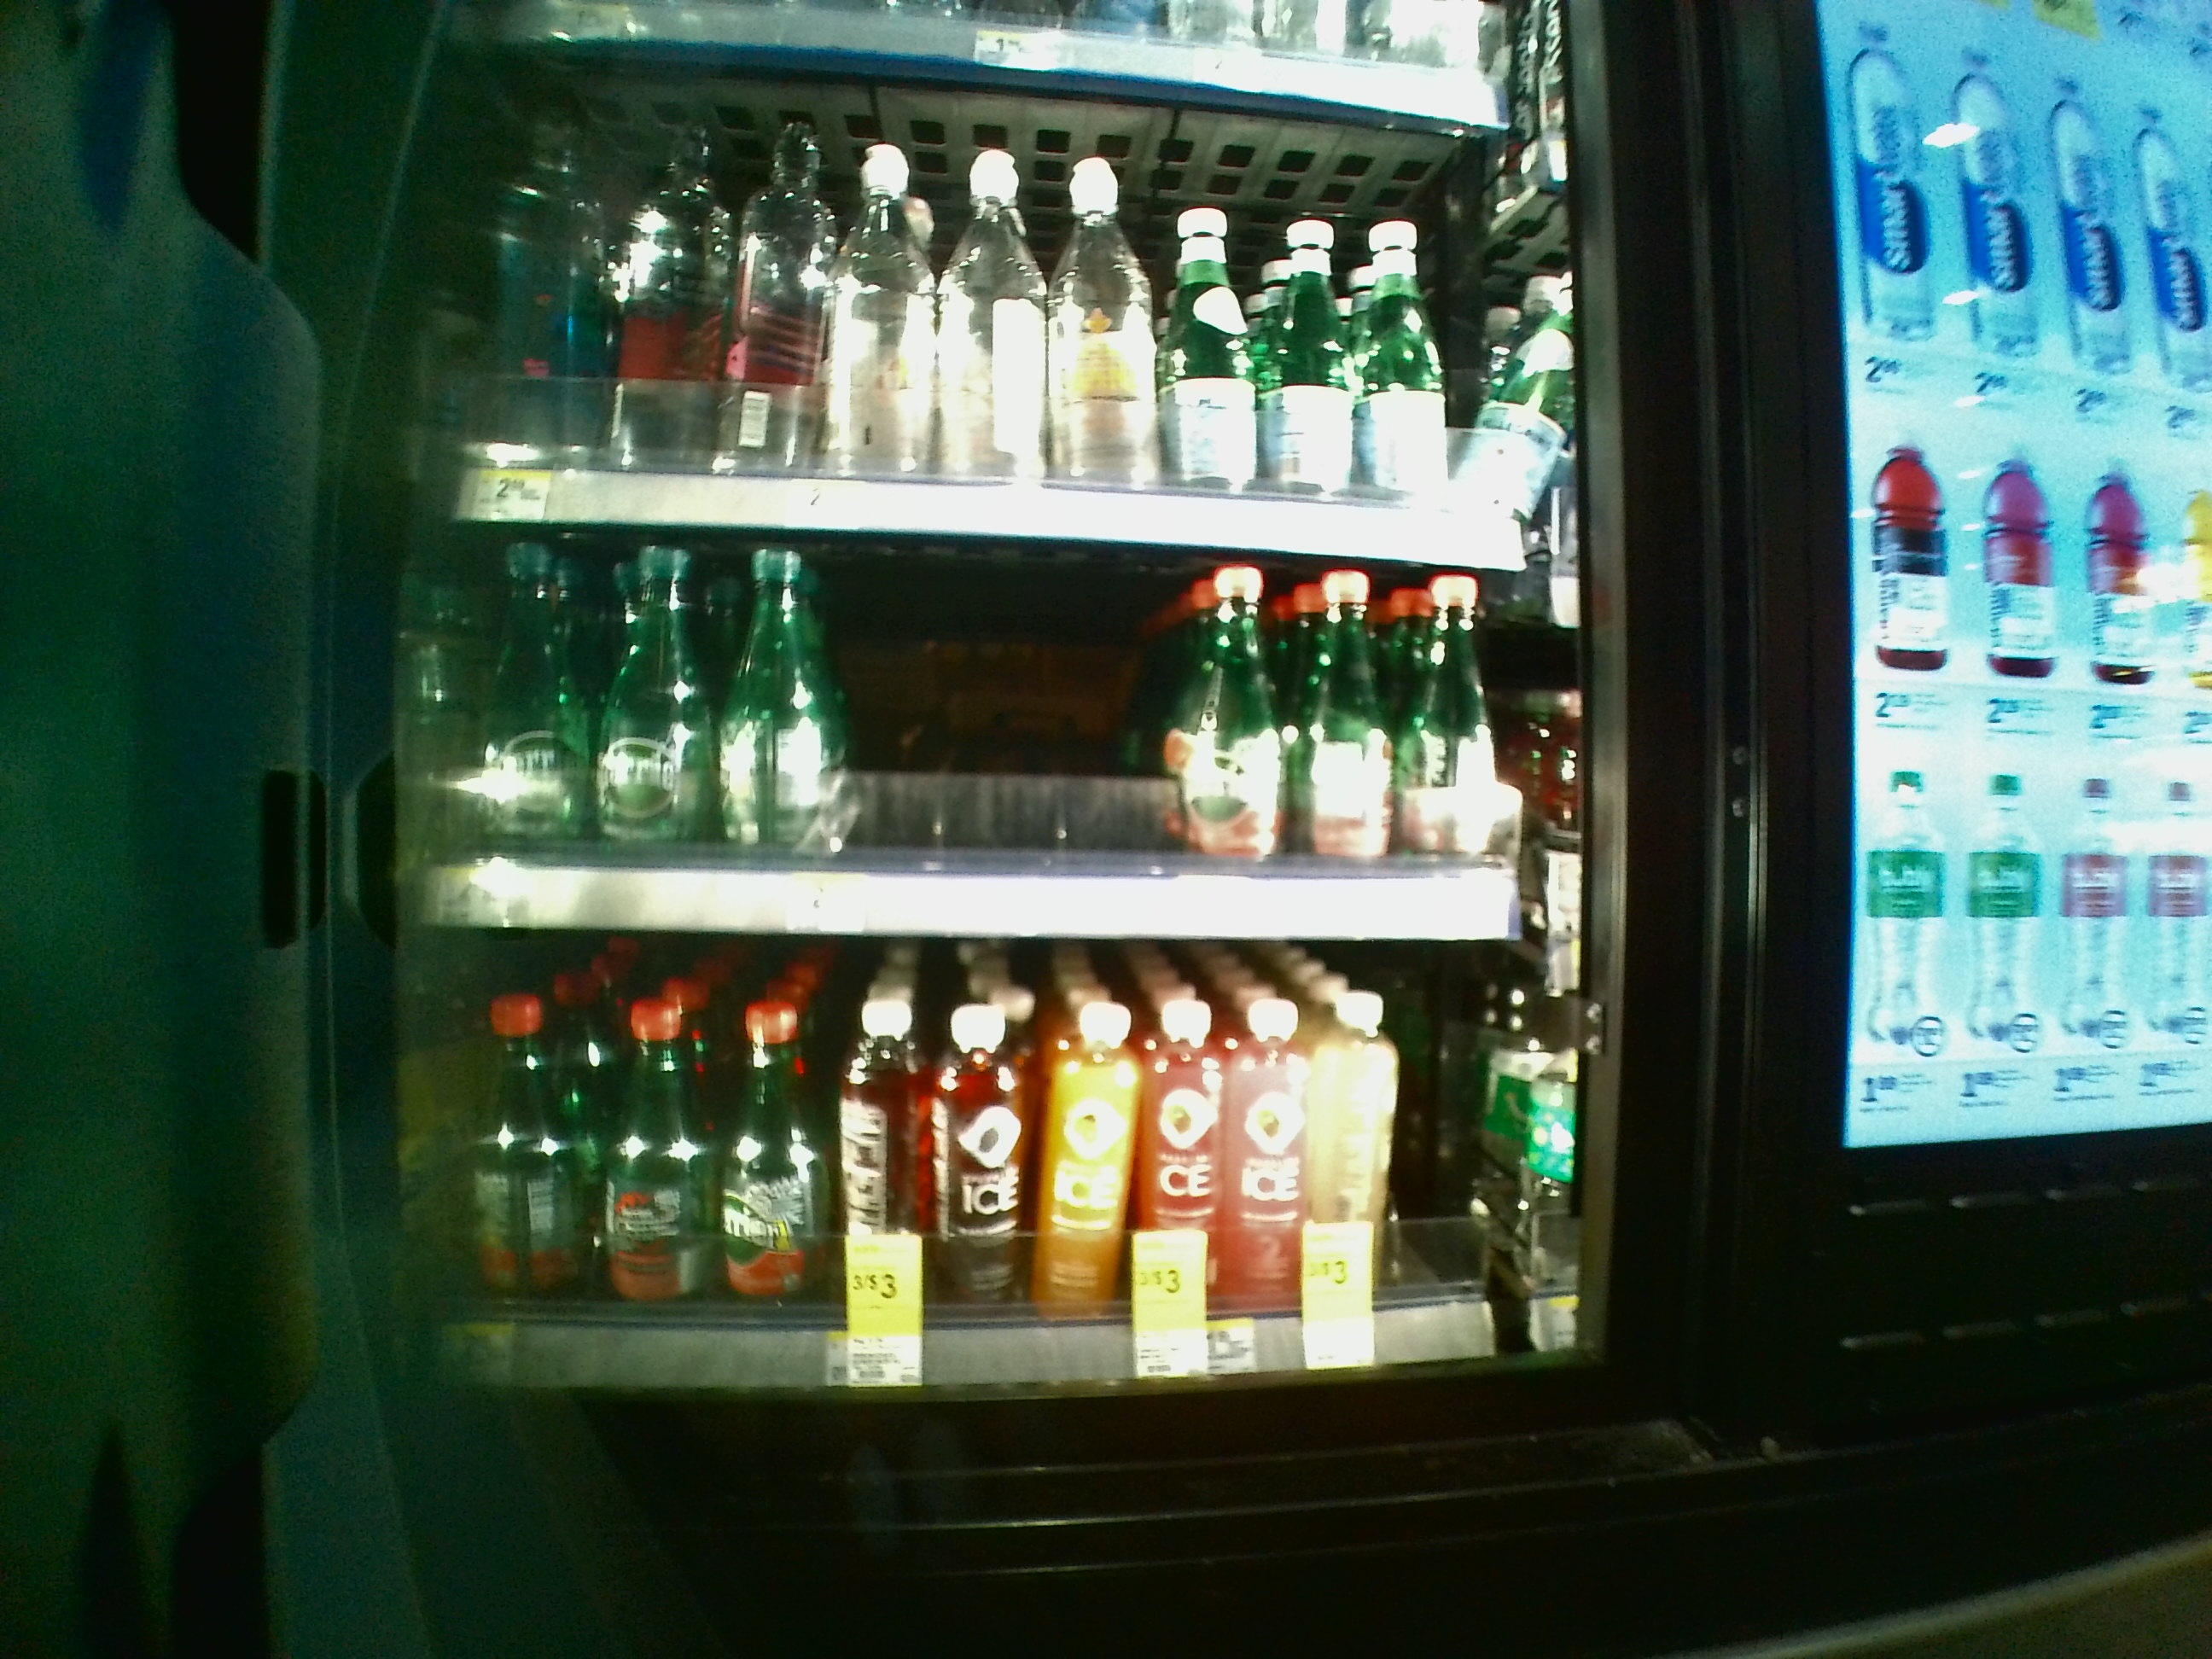shelf: (406, 939, 1599, 1391), (406, 518, 1606, 939)
